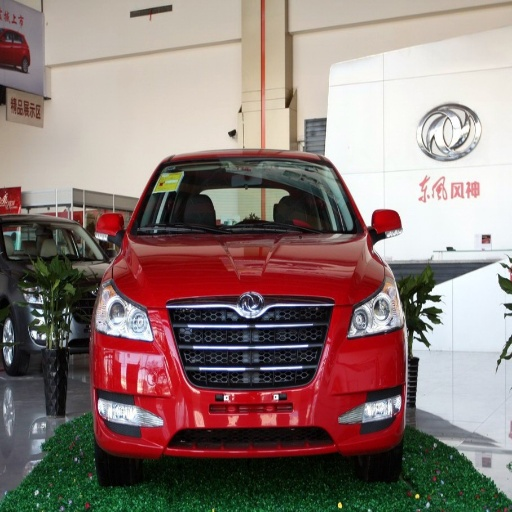front_bumper: (93, 291, 406, 457)
front_right_light: (96, 278, 154, 343)
hood: (113, 234, 384, 307)
